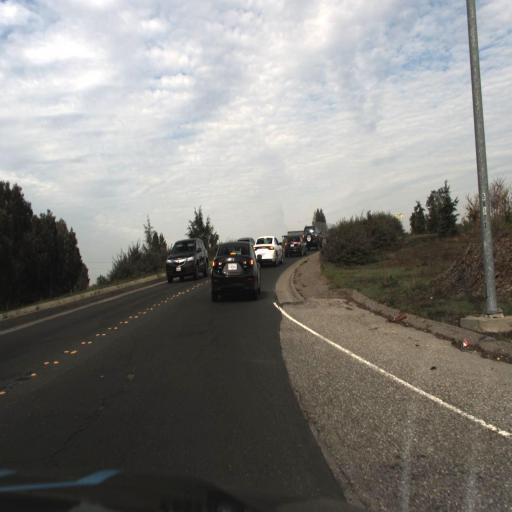car: (210, 239, 261, 305), (163, 238, 210, 286), (252, 232, 283, 266), (303, 218, 324, 251), (282, 233, 304, 259)
